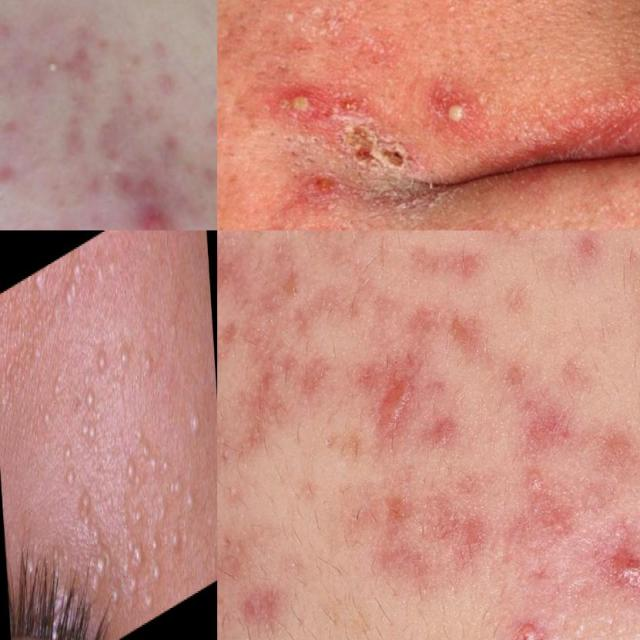6: (344, 344, 434, 460)
7: (73, 482, 118, 633), (123, 517, 163, 617), (59, 247, 87, 323), (45, 348, 71, 423), (57, 428, 81, 508), (78, 376, 99, 459), (74, 470, 98, 540), (160, 442, 182, 512), (118, 444, 142, 507), (140, 422, 160, 484), (138, 334, 158, 388), (93, 332, 112, 382), (92, 246, 110, 296), (168, 512, 184, 567), (117, 324, 134, 373), (30, 264, 49, 306), (130, 488, 147, 534), (182, 473, 198, 519), (187, 397, 201, 446), (22, 538, 36, 585), (118, 497, 132, 542), (40, 394, 54, 432)
8: (394, 198, 546, 230), (126, 198, 186, 230)
9: (407, 48, 507, 150)
blackheads: (231, 352, 310, 452), (253, 62, 348, 136), (279, 160, 360, 206), (217, 230, 241, 308)
